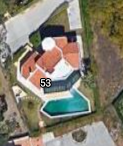pool: (46, 97, 87, 113)
